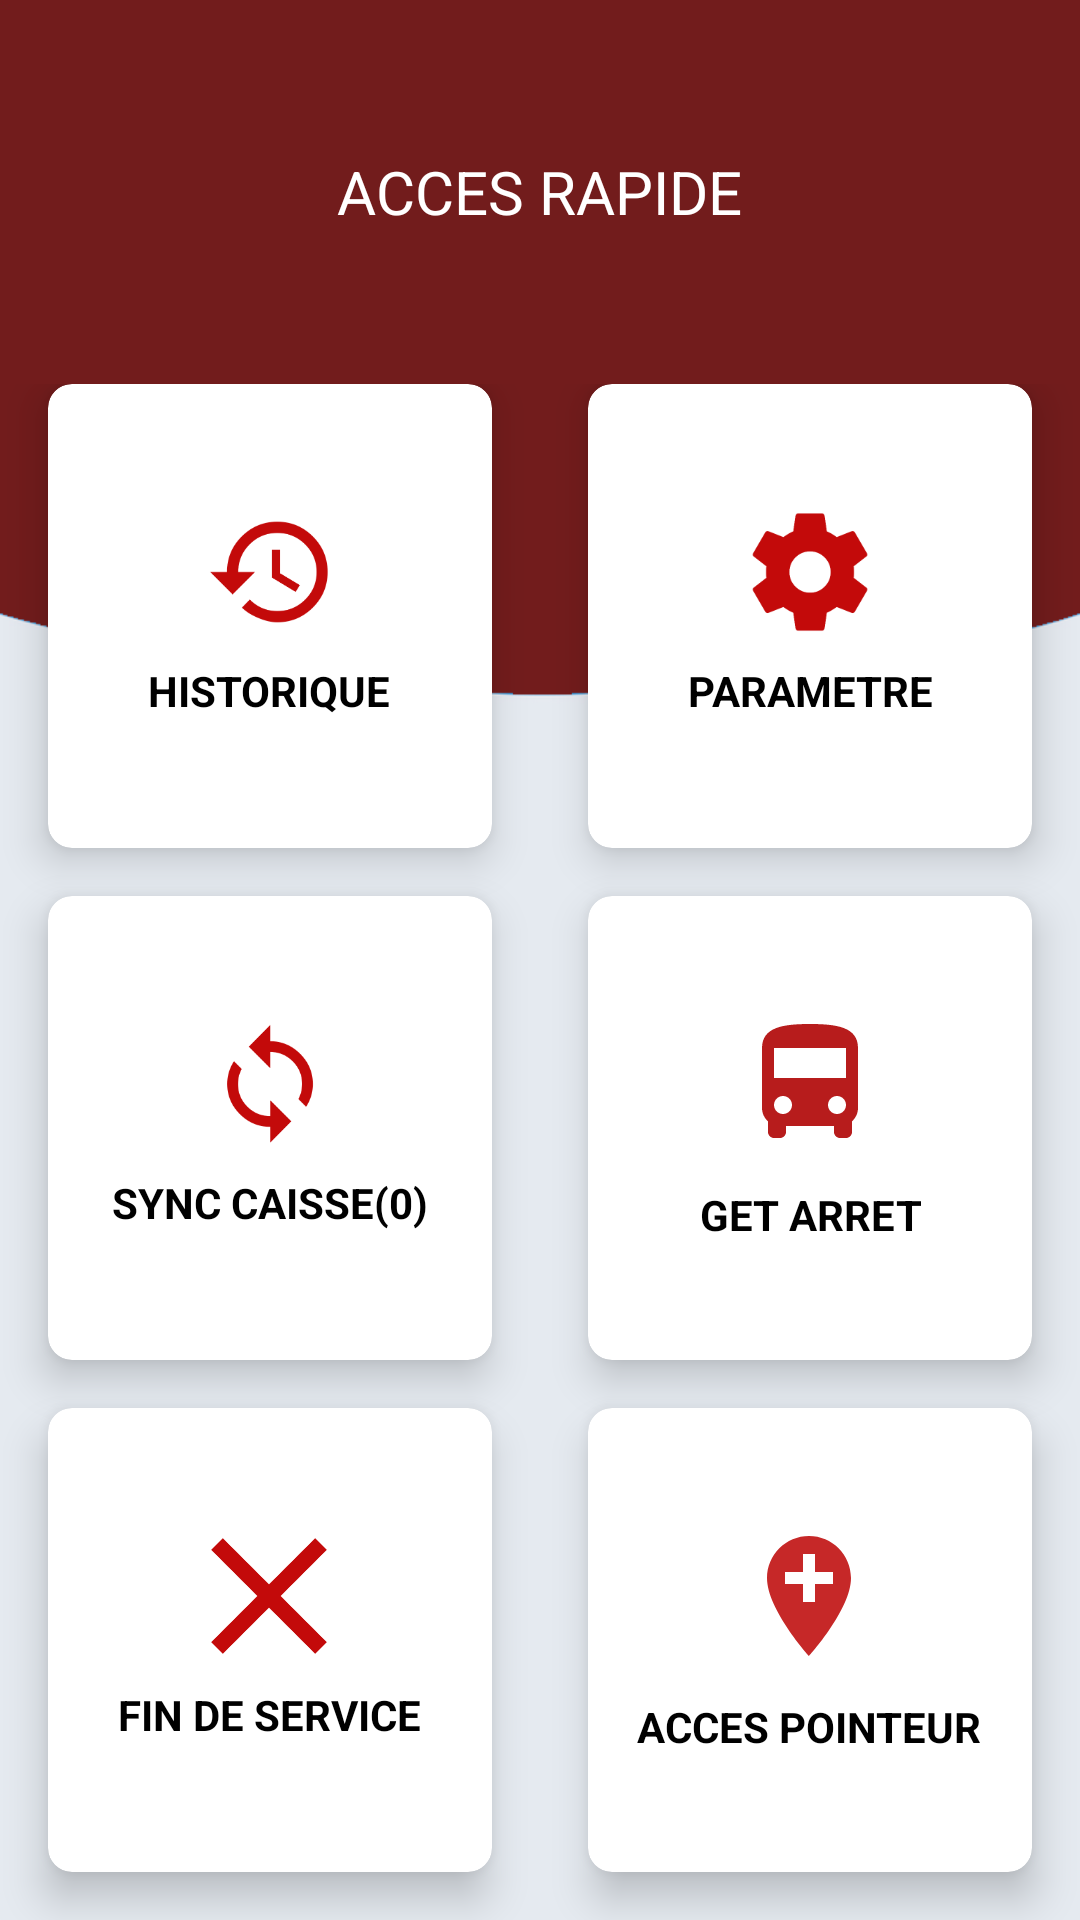

Where icons sit on this 1080px x 1920px app screen, as (left=x1, top=y1, right=x2, bottom=y2):
add location: (left=767, top=1536, right=851, bottom=1656)
close: (left=211, top=1538, right=327, bottom=1654)
directions bus: (left=762, top=1024, right=858, bottom=1138)
